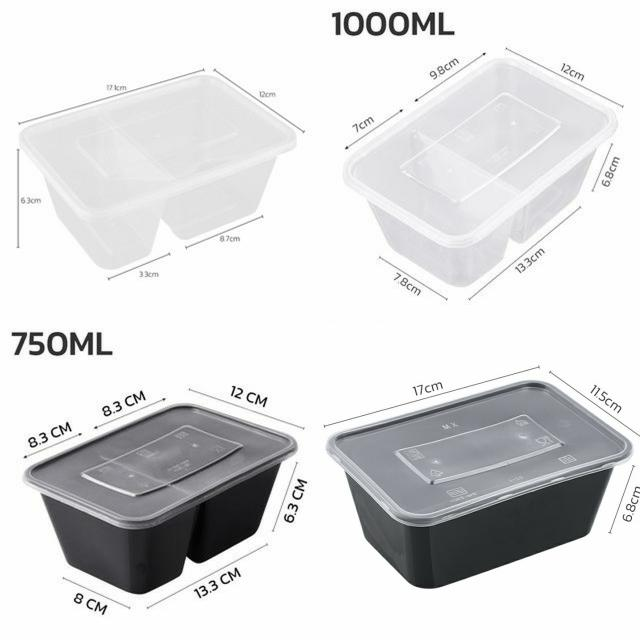Single-Use-Plastic: (328, 381, 632, 588), (344, 59, 616, 286), (20, 72, 296, 269), (25, 405, 296, 594)
